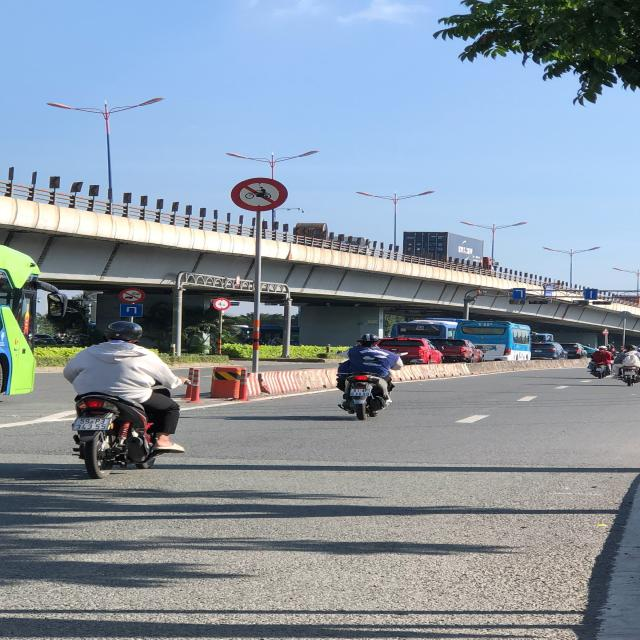Bien bao cam xe may: (229, 177, 289, 212)
